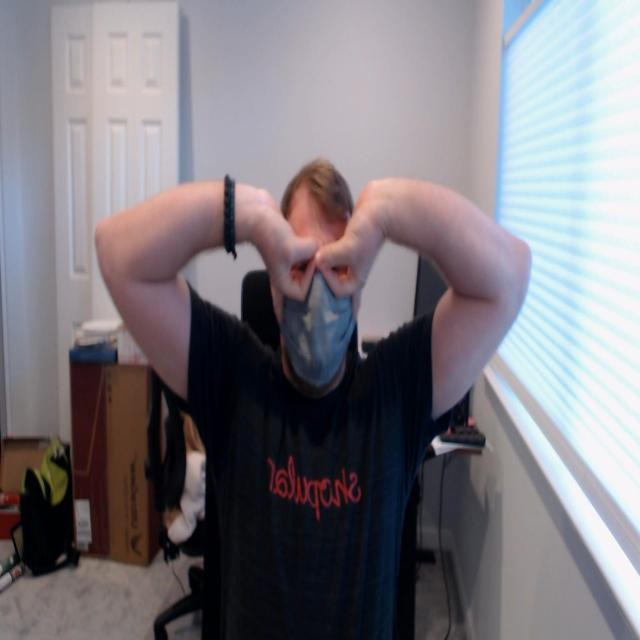face: (280, 197, 356, 389)
